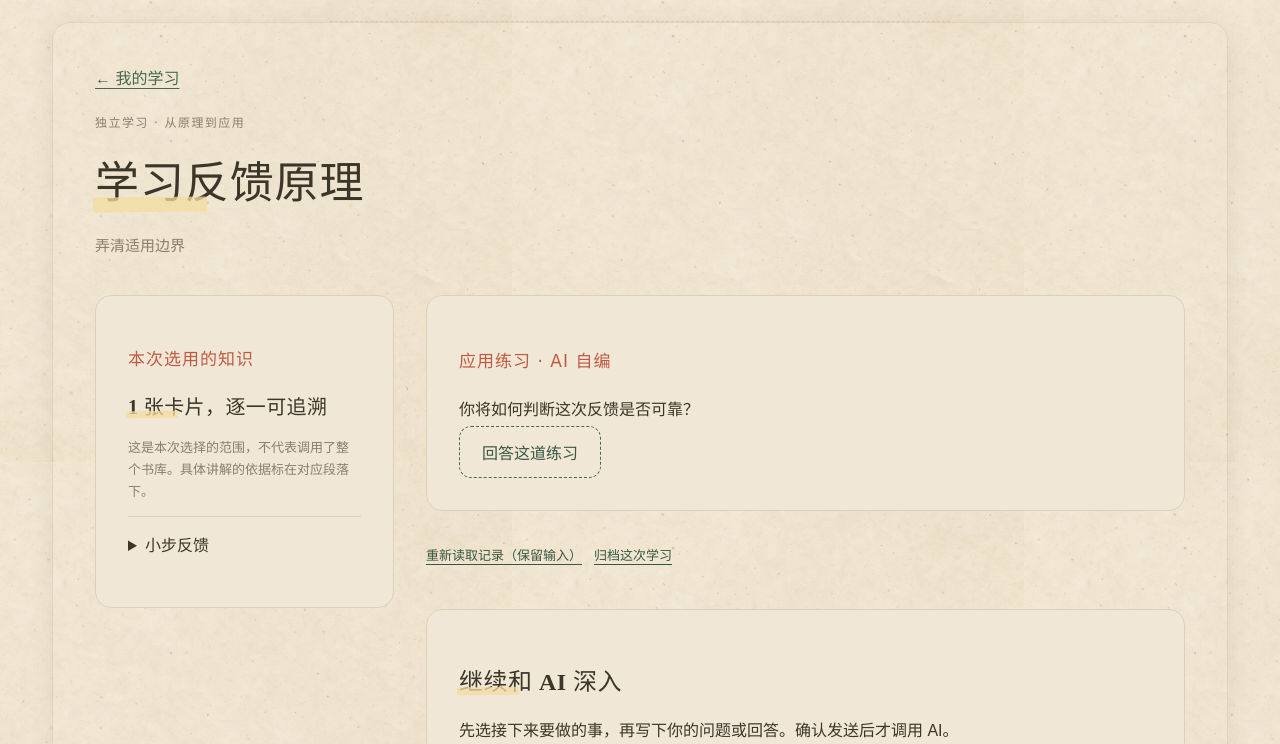
Scenario: 回答练习保存真实输入与练习ID；模型未配置不会冒出假讲评
The image size is (1280, 744).
Expected: the text "你将如何判断这次反馈是否可靠？" is shown, [459, 402, 699, 418]
Click the button "回答这道练习": x=530, y=452 [459, 426, 601, 478]
(page scrolled)
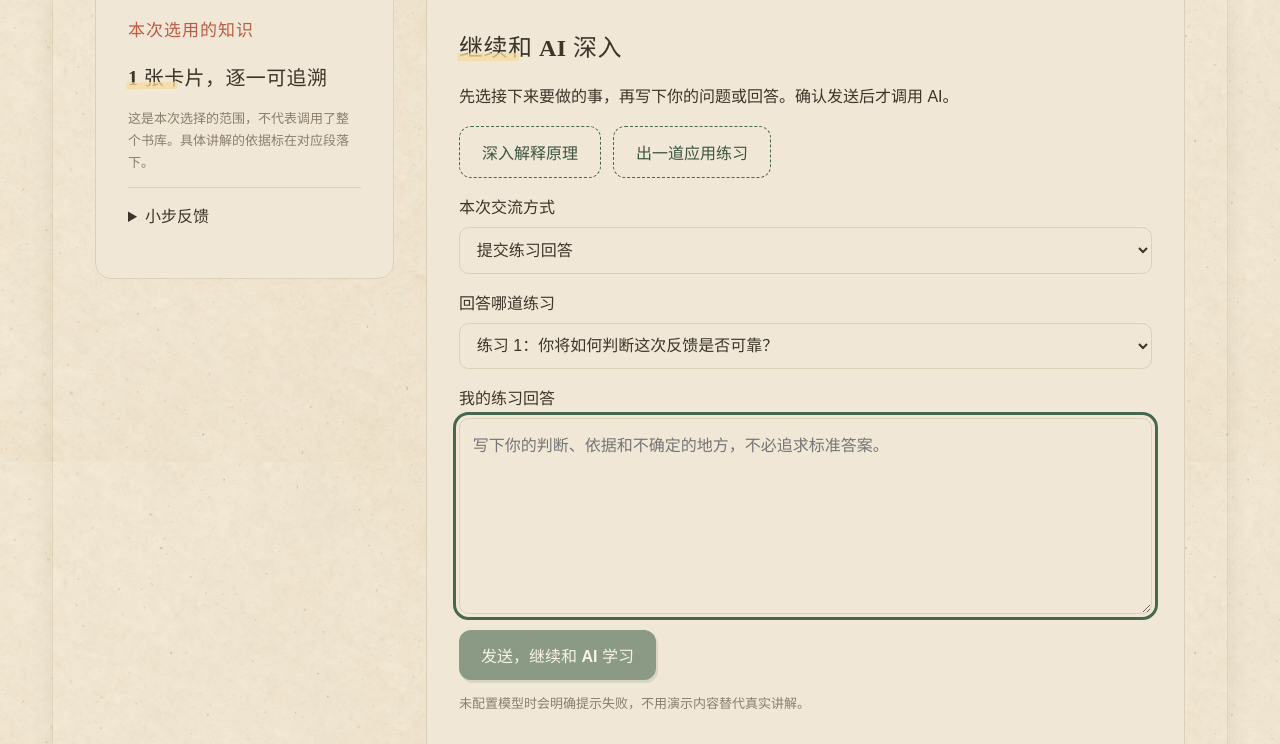
In the text box labelled "我的练习回答": x=806, y=516 [459, 418, 1152, 614], type "我会先列出环境变化这一替代解释。"
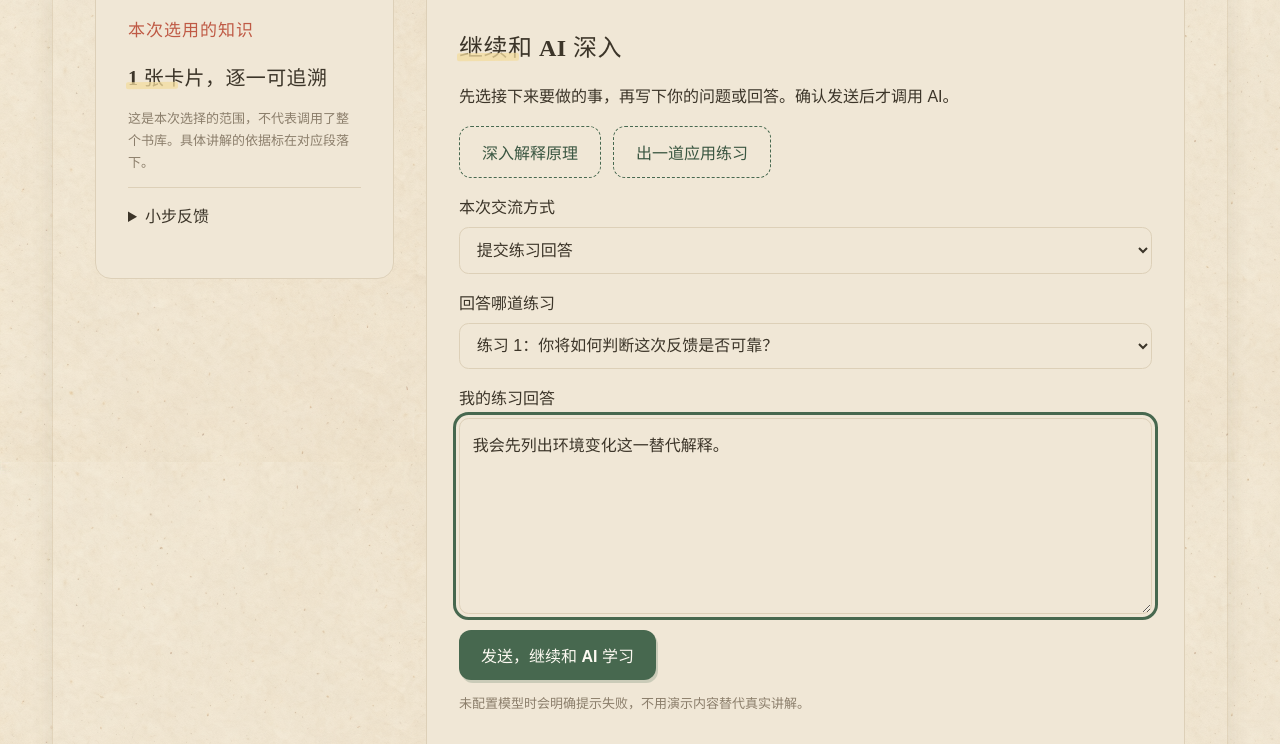
Click the button "发送，继续和 AI 学习": x=557, y=655 [459, 630, 656, 680]
(page scrolled)
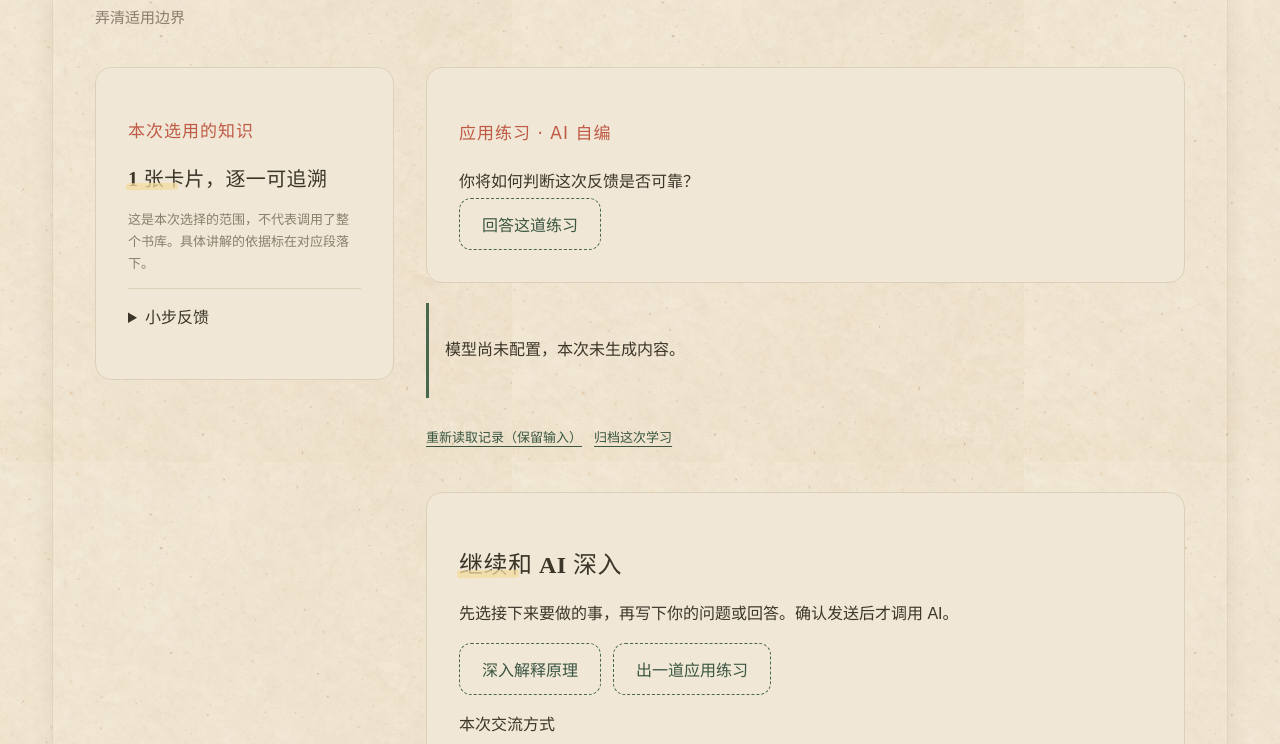
Expected: the text "模型尚未配置，本次未生成内容。" is shown, [445, 342, 685, 358]
